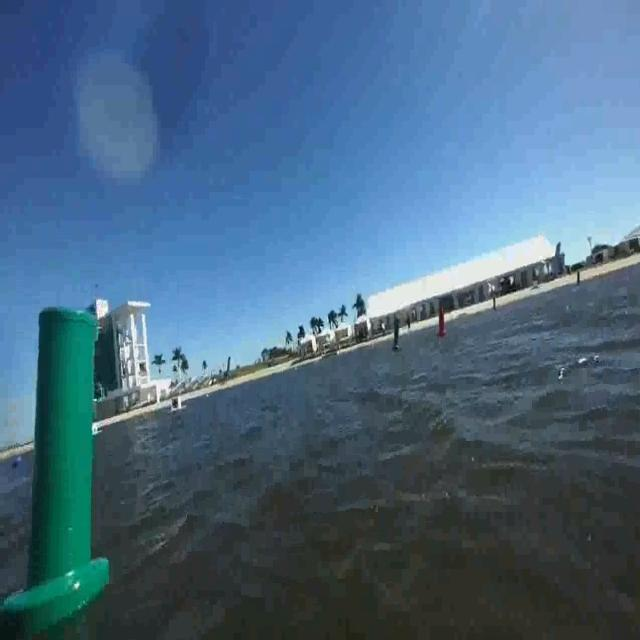blue-buoy: (10, 455, 21, 471)
green-column-buoy: (7, 308, 110, 627), (390, 316, 402, 354)
red-column-buoy: (437, 305, 448, 341)
